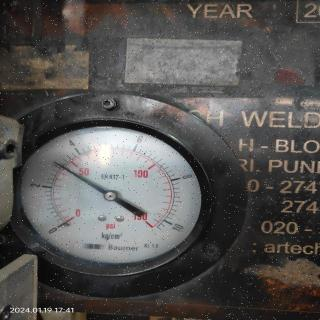gauge: (6, 92, 221, 312), (141, 217, 165, 235), (48, 217, 70, 235), (103, 190, 117, 202), (50, 158, 60, 166)
